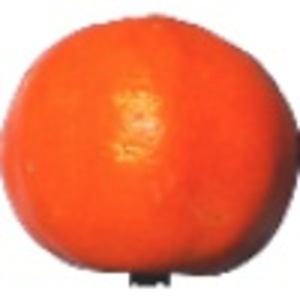tangerina: (2, 11, 300, 286)
